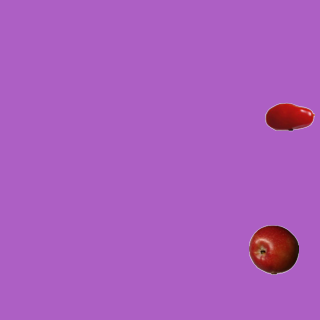Apple Braeburn: (248, 224, 298, 274)
Tomato 2: (264, 91, 314, 141)
